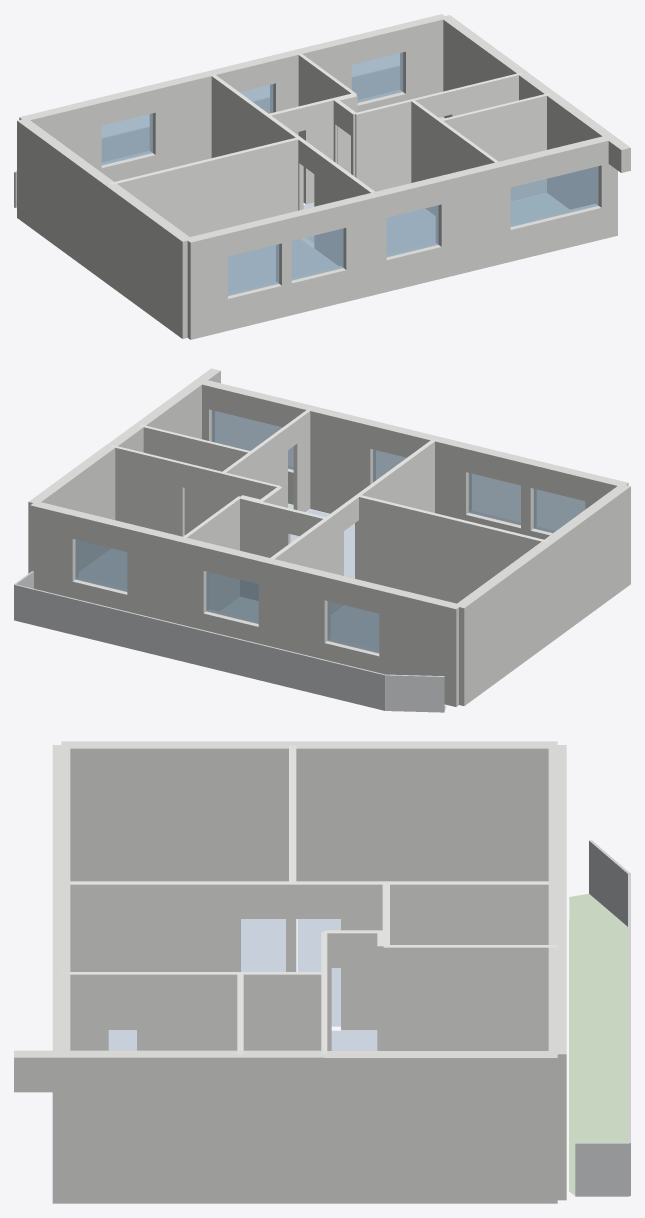
File: Screenshot 2026-10-06 123356_3d.glb
3 views of the same model, one above another, from view 1: azimuth 30°, elevation 25°; view 2: azimuth 150°, elevation 25°; view 3: azimuth 270°, elevation 25° (orthographic). The views are drawn at different scales.
Visible parts, largest first — view 1: wall_W8_20, wall_W13_37, wall_W14_38, wall_W11_32, wall_W1_3, wall_W9_21, wall_W6_16, wall_W10_22, wall_W10_28, wall_W23_55, window_N7_65, wall_W25_58 (+44 smaller); view 2: railing_R1_68, wall_W8_20, wall_W13_37, wall_W14_38, wall_W1_0, wall_W11_32, wall_W1_3, wall_W7_19, wall_W3_8, wall_W25_58, wall_W3_11, wall_W9_21 (+43 smaller); view 3: wall_W25_58, wall_W13_37, wall_W14_38, wall_W23_55, wall_W19_49, wall_W17_45, floor_R1_balcony_69, wall_W22_54, wall_W15_39, wall_W21_51, wall_W20_50, wall_W16_40 (+27 smaller).
Part boxes in pixels (<box>): wall_W8_20: <box>109,137,299,236</box>; wall_W13_37: <box>17,119,113,281</box>; wall_W14_38: <box>105,184,190,338</box>; wall_W11_32: <box>436,162,502,278</box>; wall_W1_3: <box>150,71,213,171</box>; wall_W9_21: <box>440,93,551,201</box>; wall_W6_16: <box>354,99,412,191</box>; wall_W10_22: <box>185,229,227,339</box>; wall_W10_28: <box>341,192,379,301</box>; wall_W23_55: <box>547,92,614,209</box>; window_N7_65: <box>510,166,598,226</box>; wall_W25_58: <box>441,15,527,118</box>; railing_R1_68: <box>14,584,385,710</box>; wall_W8_20: <box>357,495,548,603</box>; wall_W13_37: <box>454,541,553,705</box>; wall_W14_38: <box>544,484,630,640</box>; wall_W1_0: <box>379,586,459,706</box>; wall_W11_32: <box>309,406,375,513</box>; wall_W1_3: <box>266,558,330,659</box>; wall_W7_19: <box>111,445,184,536</box>; wall_W3_8: <box>127,524,184,623</box>; wall_W25_58: <box>28,444,115,573</box>; wall_W3_11: <box>30,501,78,597</box>; wall_W9_21: <box>139,424,251,534</box>; wall_W25_58: <box>324,1051,557,1203</box>; wall_W13_37: <box>292,741,557,881</box>; wall_W14_38: <box>61,741,292,881</box>; wall_W23_55: <box>61,1050,240,1203</box>; wall_W19_49: <box>383,945,557,1050</box>; wall_W17_45: <box>70,881,240,1030</box>; floor_R1_balcony_69: <box>569,893,627,1195</box>; wall_W22_54: <box>240,1050,324,1203</box>; wall_W15_39: <box>386,881,548,944</box>; wall_W21_51: <box>137,972,240,1050</box>; wall_W20_50: <box>240,972,323,1050</box>; wall_W16_40: <box>341,881,386,1030</box>.
Bounding box in the file's own units: 12.81 × 2.75 × 10.55.
